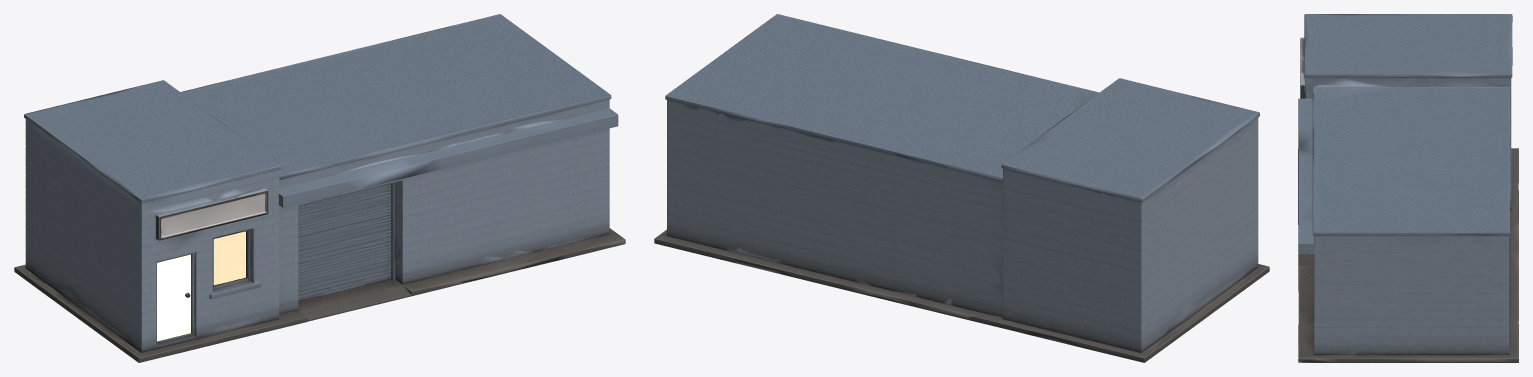
File: job-car-wash.glb
3 views of the same model, side by side, from view 1: azimuth 30°, elevation 25°; view 2: azimuth 150°, elevation 25°; view 3: azimuth 270°, elevation 25° (orthographic). The views are drawn at different scales.
Bounding box in the file's own units: 19.2 × 6 × 8.5.
Materials: 3 (3 with a texture image).
